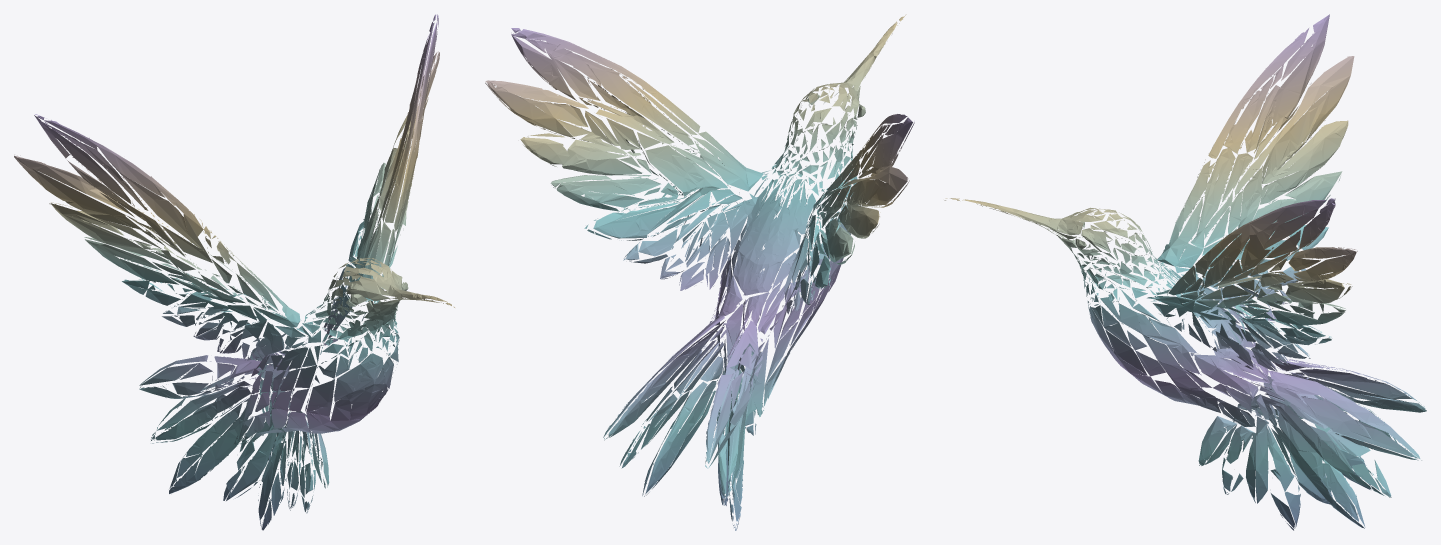
File: hummingbird-mobile.glb
The picture shows the model from 3 angles, left to right: view 1: azimuth 30°, elevation 25°; view 2: azimuth 150°, elevation 25°; view 3: azimuth 270°, elevation 25°; orthographic projection. The views are drawn at different scales.
Parts seen in each view (by area): view 1: geometry_0; view 2: geometry_0; view 3: geometry_0.
Boxes of the visible parts, x1,y1,x2,y2 form: geometry_0: [14, 14, 454, 530]; geometry_0: [485, 14, 914, 530]; geometry_0: [944, 14, 1426, 530].
Size of the model in its own units: 1.79 by 1.82 by 1.89.
